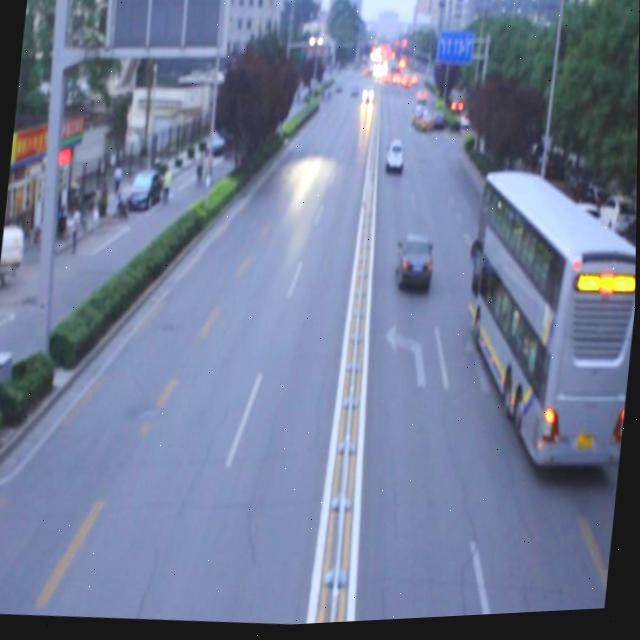car: (395, 235, 438, 304)
van: (454, 167, 638, 479)
